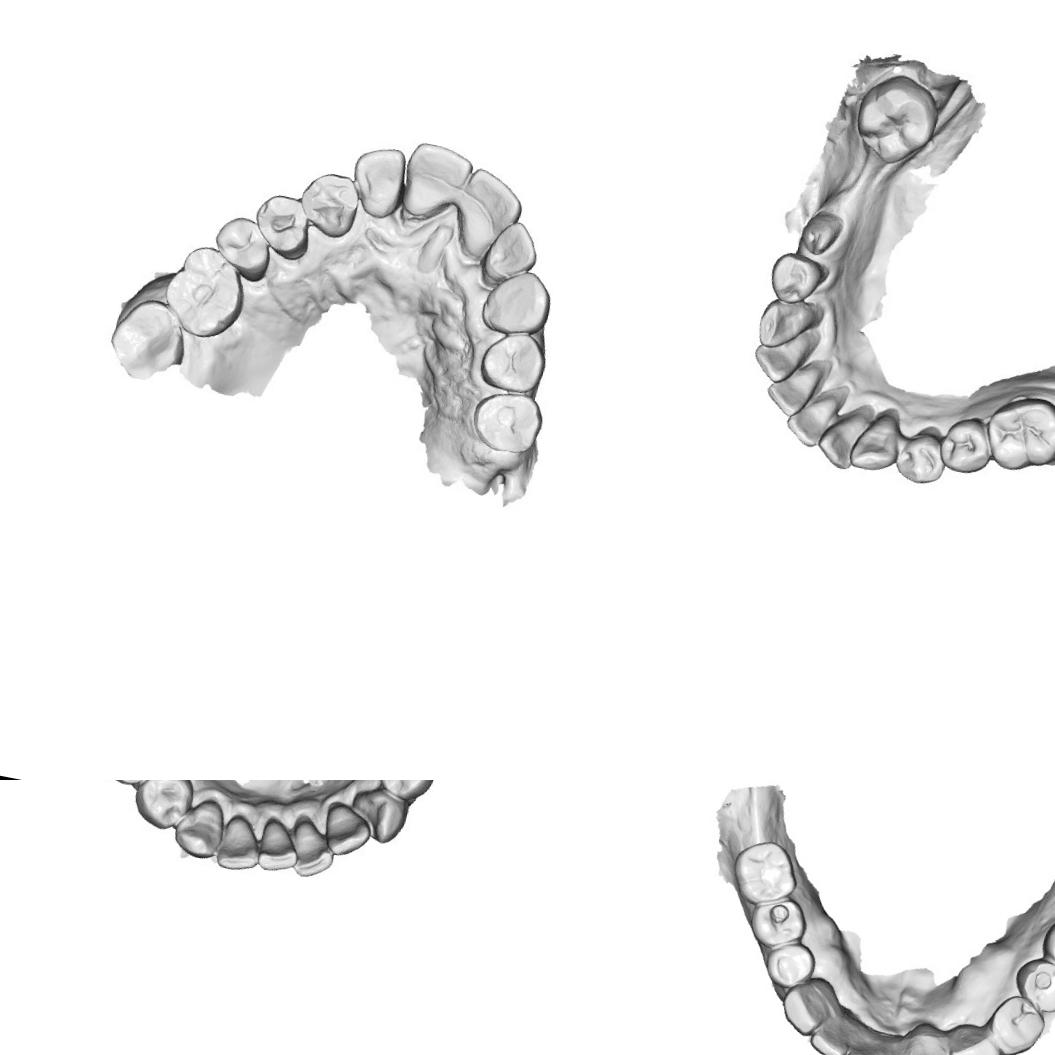canine: (474, 262, 556, 337), (844, 404, 902, 482), (298, 170, 364, 238), (343, 781, 412, 844), (168, 788, 226, 862), (755, 294, 822, 350), (775, 977, 833, 1040), (944, 1022, 1005, 1055)
incisor: (452, 163, 524, 257), (396, 138, 472, 226), (747, 323, 816, 390), (348, 143, 408, 218), (760, 358, 828, 424), (812, 407, 871, 476), (782, 382, 838, 453), (319, 800, 375, 866), (480, 218, 538, 280), (284, 814, 337, 880), (212, 811, 262, 878), (252, 816, 299, 878), (805, 1017, 854, 1055), (840, 1032, 883, 1055), (906, 1036, 953, 1055), (872, 1041, 914, 1055)
molar: (848, 66, 944, 171), (161, 242, 249, 340), (104, 297, 190, 385), (980, 389, 1055, 481), (726, 834, 804, 912), (1035, 905, 1055, 985)
premolar: (467, 386, 544, 464), (762, 246, 836, 308), (982, 989, 1049, 1055), (744, 890, 812, 954), (475, 329, 544, 392), (252, 192, 314, 262), (937, 410, 998, 478), (894, 424, 954, 490), (211, 216, 273, 275), (760, 936, 820, 993), (133, 780, 191, 833), (1008, 952, 1055, 1017), (372, 780, 438, 804)
